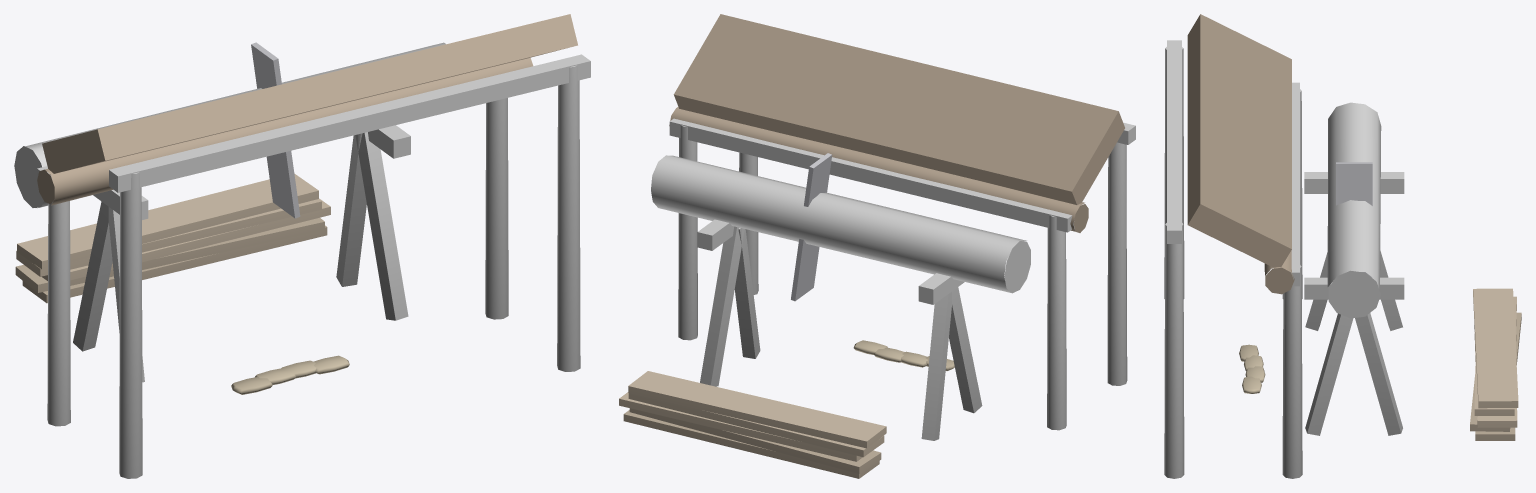
File: hw_sawpit.glb
3 renders of one model, left to right at view 1: azimuth 30°, elevation 25°; view 2: azimuth 150°, elevation 25°; view 3: azimuth 270°, elevation 25°, orthographic. The views are drawn at different scales.
Parts seen in each view (by area): view 1: Building; view 2: Building; view 3: Building.
Boxes of the visible parts, x1,y1,x2,y2 form: Building: [14, 14, 590, 478]; Building: [619, 14, 1135, 478]; Building: [1164, 14, 1521, 478].
Bounding box in the file's own units: 2.74 × 1.84 × 2.15.
